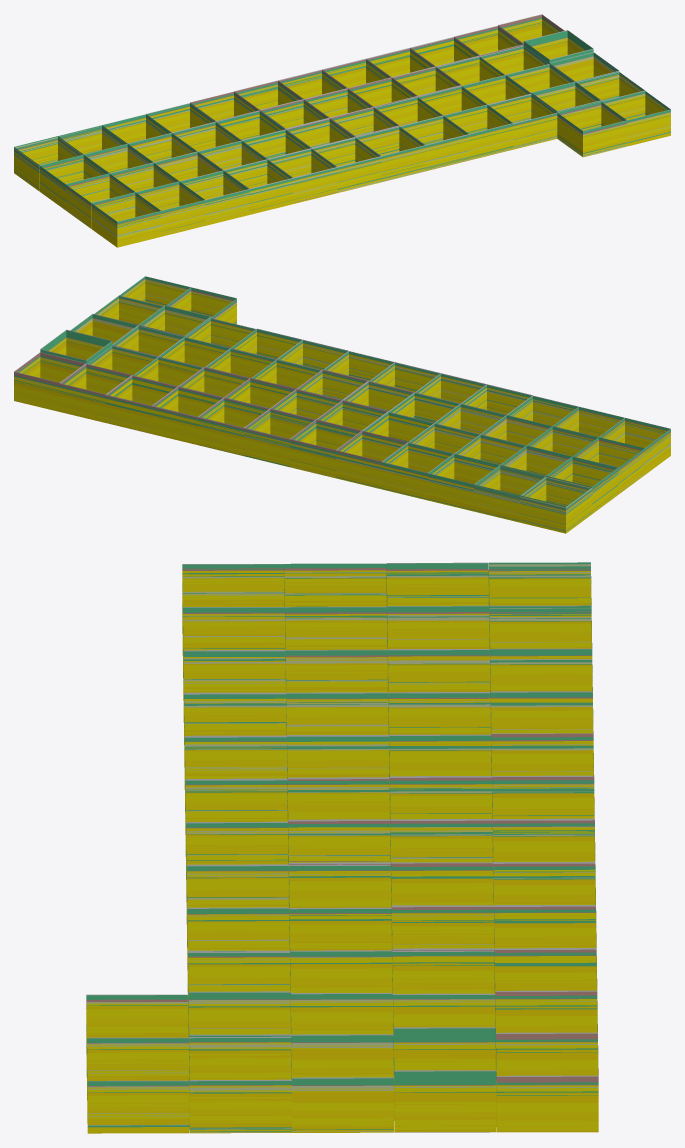
The picture shows the model from 3 angles, top to bottom: view 1: azimuth 30°, elevation 25°; view 2: azimuth 150°, elevation 25°; view 3: azimuth 270°, elevation 25°; orthographic projection. The views are drawn at different scales.
Visible parts, largest first — view 1: mesh; view 2: mesh; view 3: mesh.
Boxes of the visible parts, x1,y1,x2,y2 form: mesh: [14, 14, 670, 247]; mesh: [14, 276, 670, 533]; mesh: [86, 562, 598, 1133].
Size of what is drawn, in the model's own units: 1964 by 110 by 820.
